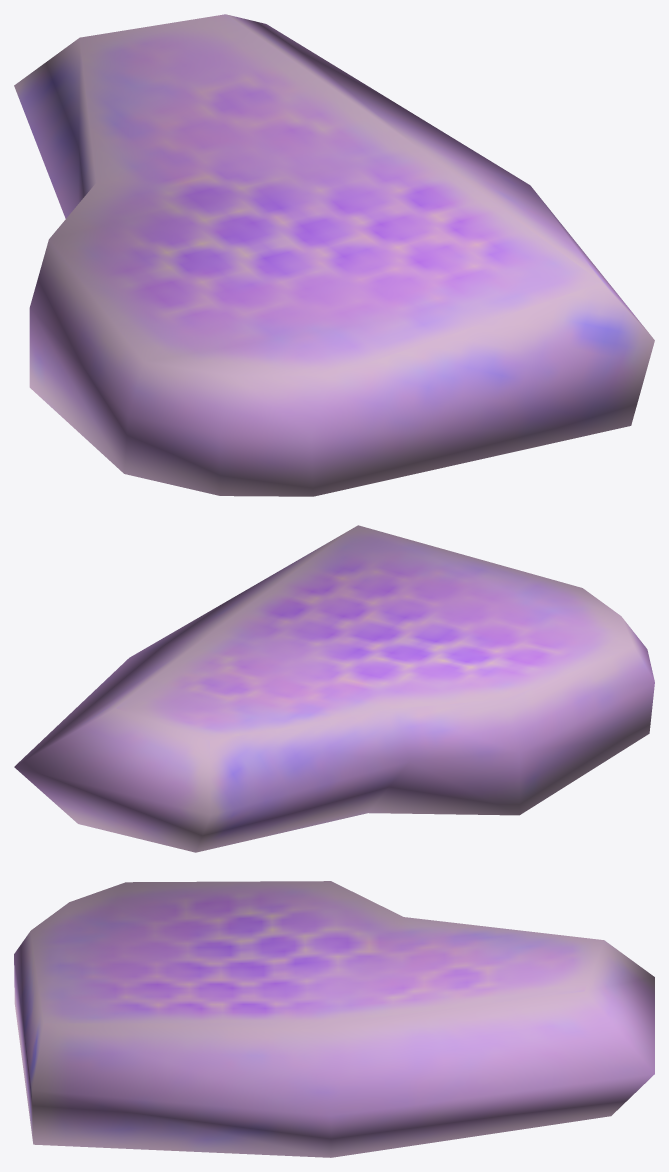
File: Terrine(Clone).fbx
3 renders of one model, top to bottom at view 1: azimuth 30°, elevation 25°; view 2: azimuth 150°, elevation 25°; view 3: azimuth 270°, elevation 25°, orthographic. The views are drawn at different scales.
Visible parts, largest first — view 1: model; view 2: model; view 3: model.
Part boxes in pixels (x1,y1,x2,y2): model: (14, 14, 654, 496); model: (14, 525, 654, 852); model: (14, 881, 654, 1157).
Bounding box in the file's own units: 45.26 × 13.53 × 59.39.
1 material, 1 textured.
